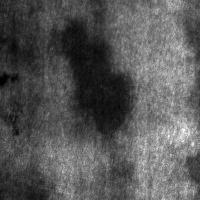patches: (0, 0, 150, 134), (84, 0, 200, 128), (50, 16, 136, 139), (72, 0, 136, 62)
